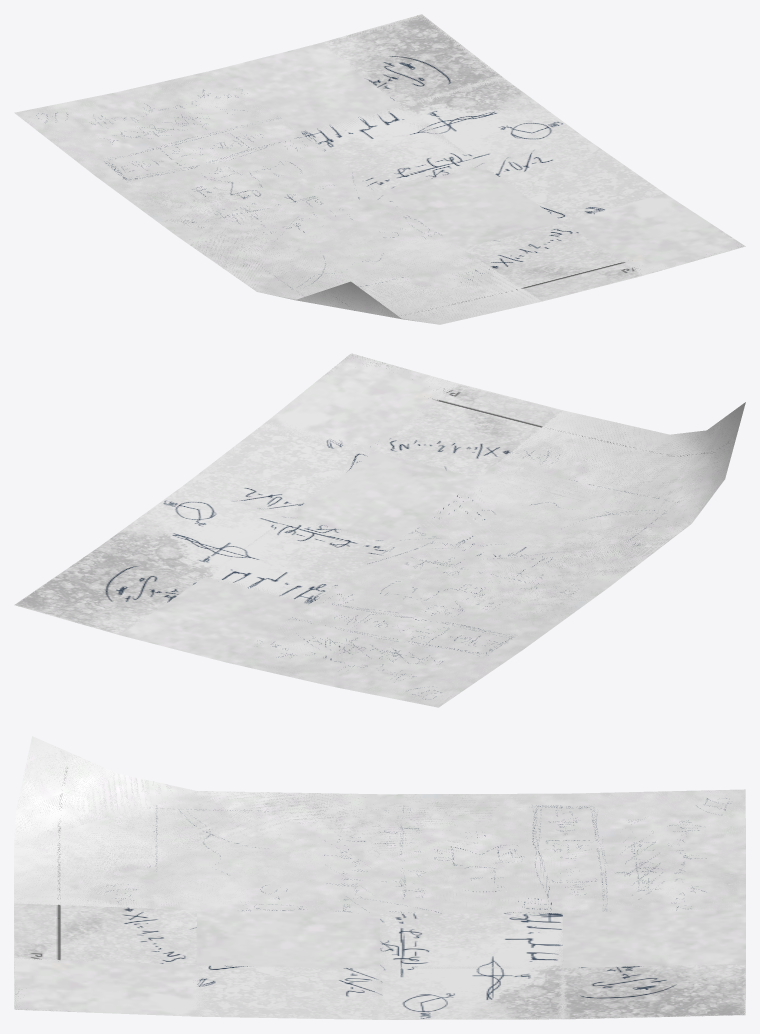
Rendered from note_ross_files02.dae.
3 views of the same model, one above another, from view 1: azimuth 30°, elevation 25°; view 2: azimuth 150°, elevation 25°; view 3: azimuth 270°, elevation 25° (orthographic). The views are drawn at different scales.
Parts seen in each view (by area): view 1: polySurface3; view 2: polySurface3; view 3: polySurface3.
Part boxes in pixels (x1,y1,x2,y2): polySurface3: (14,14,745,324); polySurface3: (14,353,745,707); polySurface3: (14,736,745,1019).
Bounding box in the file's own units: 0.2536 × 0.0404 × 0.3491.
